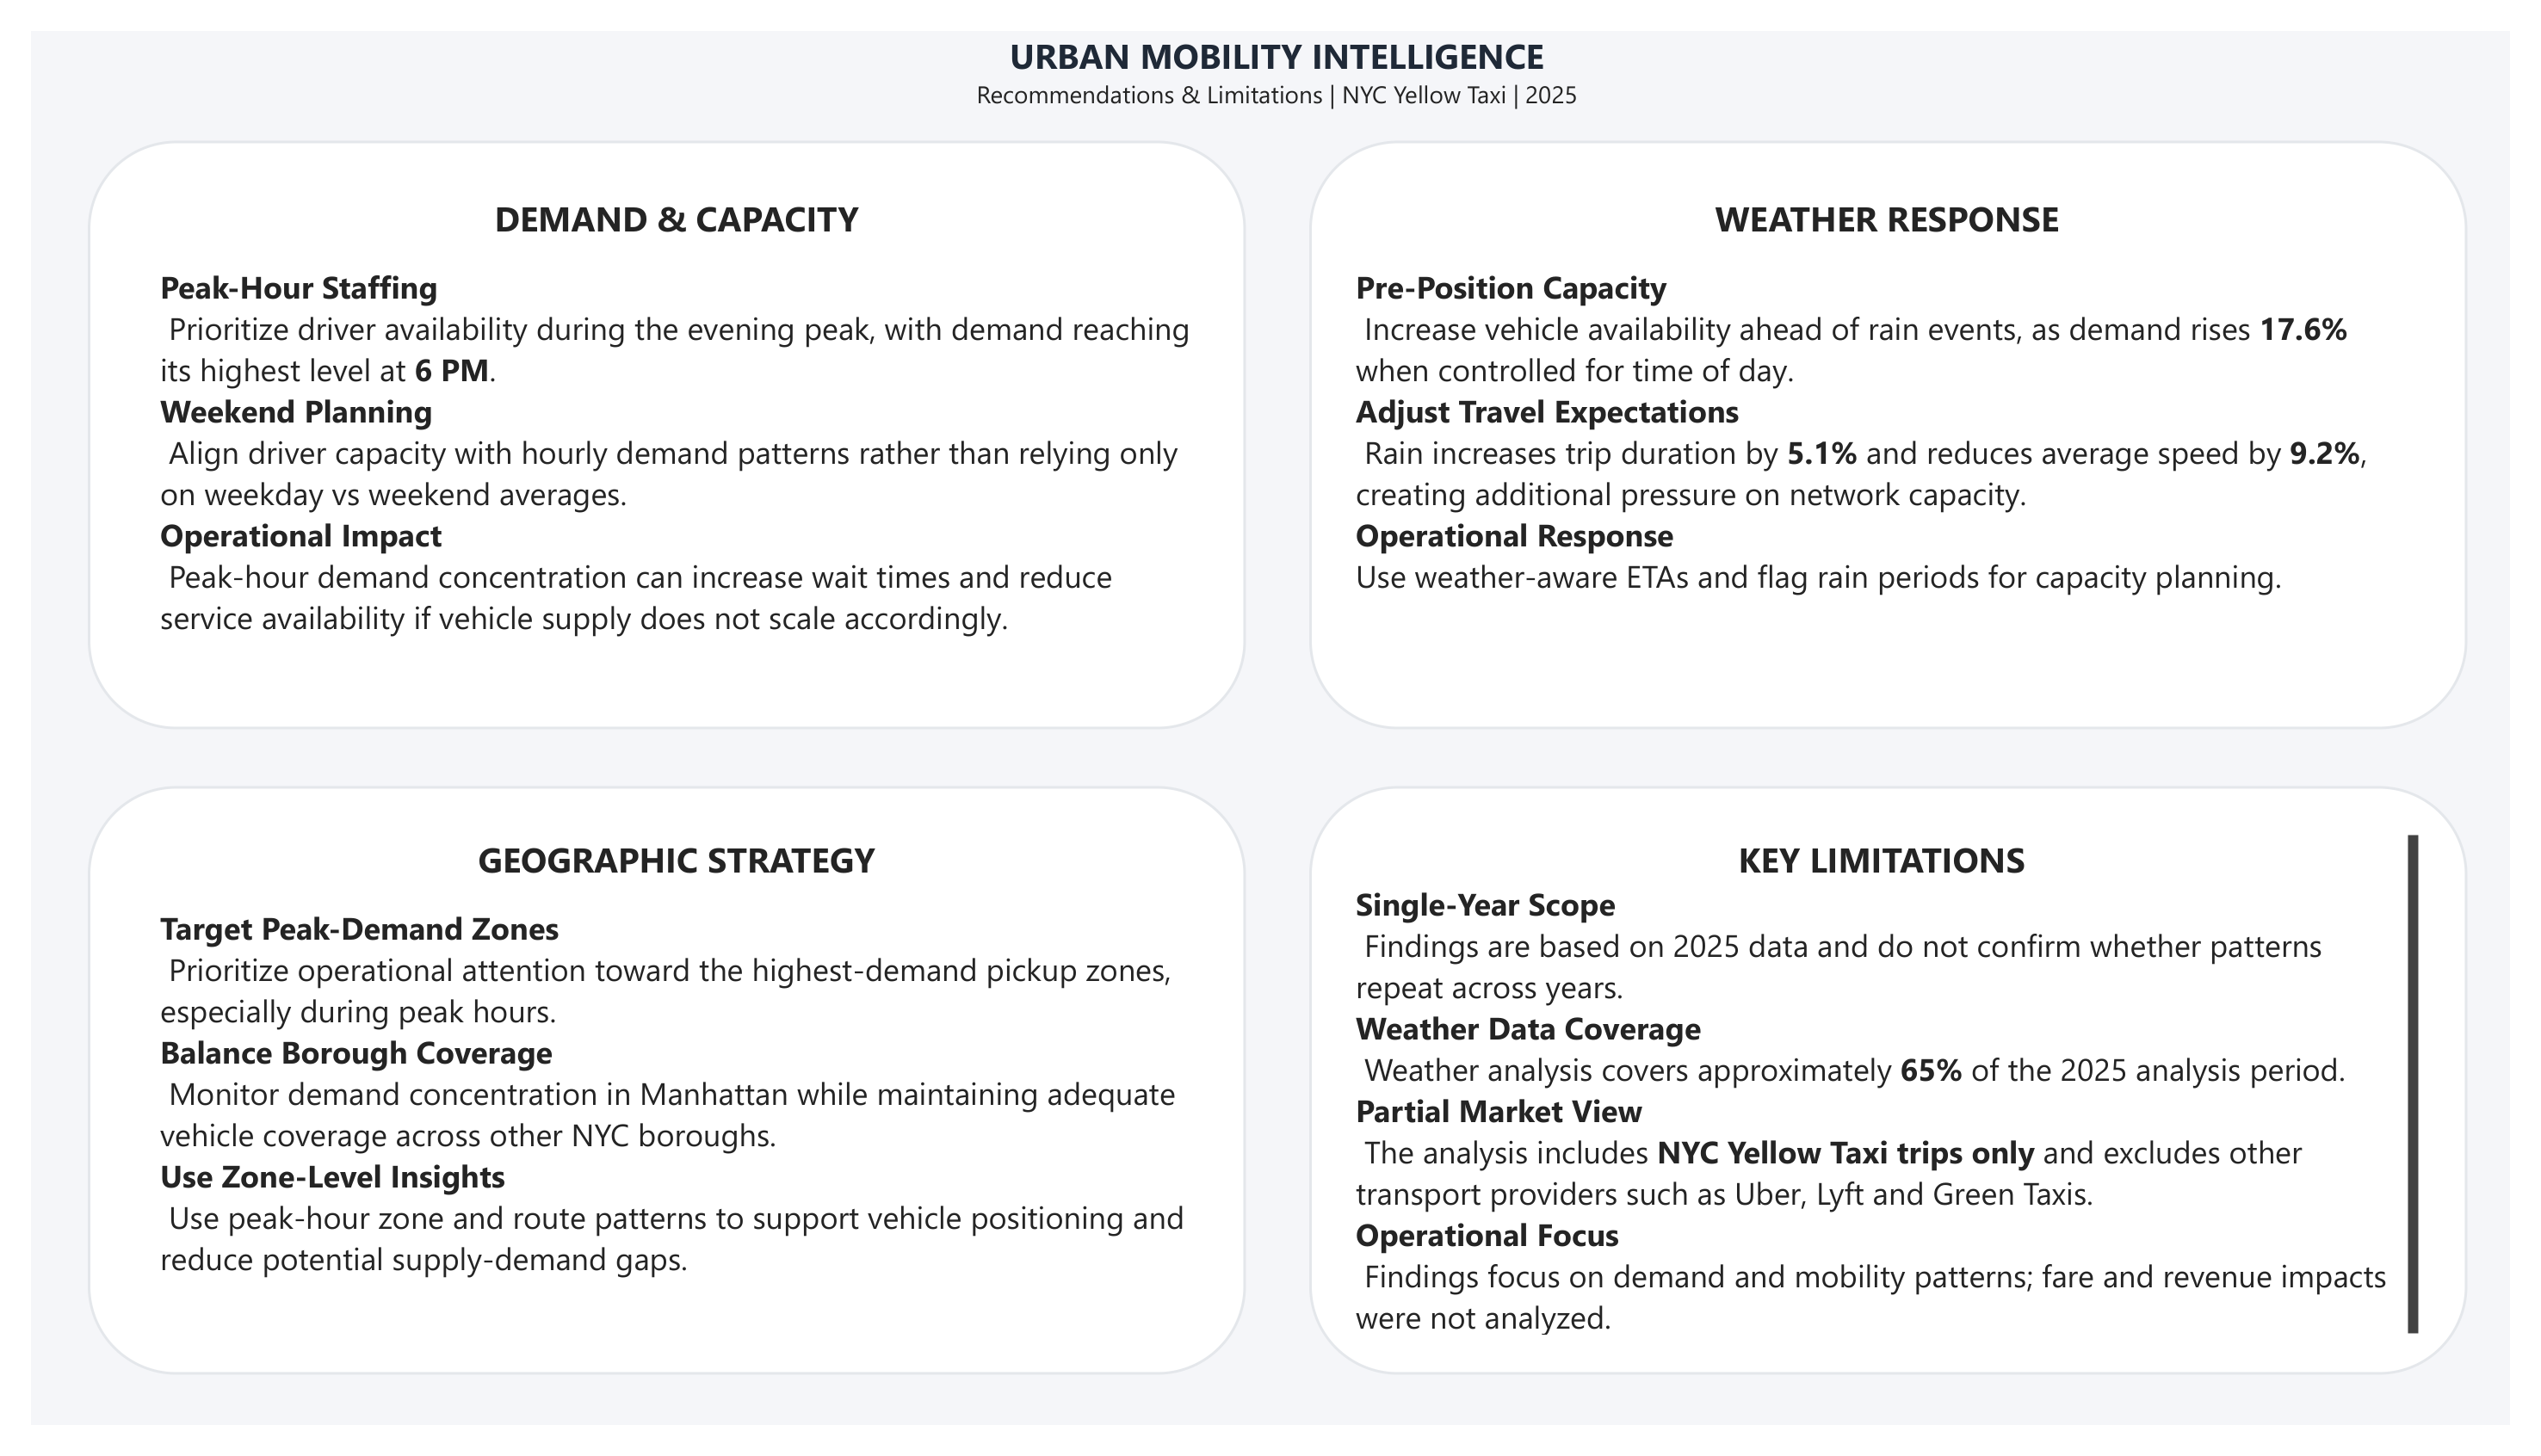

Layout of this report page (visuals, bound fields, positions):
{"tool":"powerbi","page":{"name":"Recommendations & Limitations","canvas":[1920,1080],"ordinal":4},"visuals":[{"type":"textbox","box":[9.6,0,1910.4,85.4],"z":0},{"type":"shape","box":[43.6,84.6,897.4,456.4],"z":1000},{"type":"shape","box":[989.7,84.6,897.4,456.4],"z":2000},{"type":"shape","box":[43.6,584.6,897.4,456.4],"z":3000},{"type":"shape","box":[989.7,584.6,897.4,456.4],"z":4000},{"type":"textbox","box":[100,125.6,800,384.6],"z":5000},{"type":"textbox","box":[1025.6,125.6,823.1,384.6],"z":6000},{"type":"textbox","box":[100,623.1,800,387.2],"z":7000},{"type":"textbox","box":[1025.6,623.1,823.1,387.2],"z":8000}]}

Visuals, with their boxes in screenshot pixels (x1, y1, x2, y2), scaled from the page's 1920x1080 canvas onto the 2541x1456 screenshot:
textbox: (13, 0, 2540, 115)
shape: (58, 114, 1246, 730)
shape: (1310, 114, 2497, 730)
shape: (58, 788, 1246, 1404)
shape: (1310, 788, 2497, 1404)
textbox: (133, 170, 1191, 688)
textbox: (1357, 170, 2446, 688)
textbox: (133, 840, 1191, 1362)
textbox: (1357, 840, 2446, 1362)
